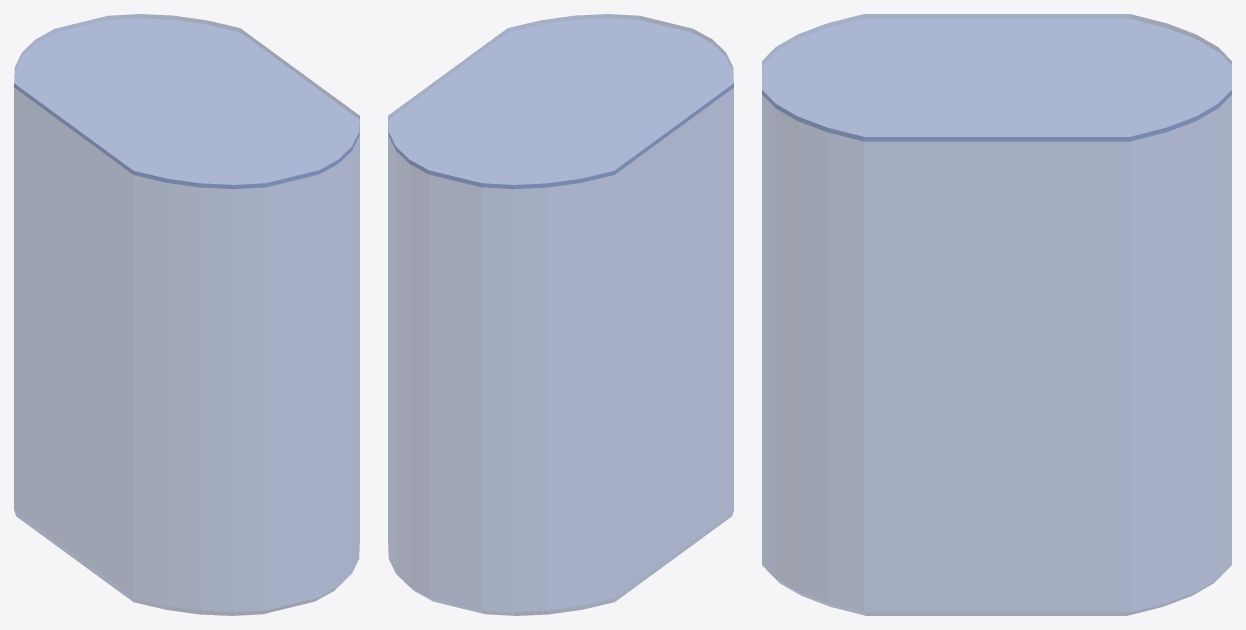
The model's file is liquid.gltf.
3 views of the same model, side by side, from view 1: azimuth 30°, elevation 25°; view 2: azimuth 150°, elevation 25°; view 3: azimuth 270°, elevation 25° (orthographic). The views are drawn at different scales.
Parts seen in each view (by area): view 1: nacl.001; view 2: nacl.001; view 3: nacl.001.
Boxes of the visible parts, x1,y1,x2,y2 form: nacl.001: [14, 14, 359, 615]; nacl.001: [388, 14, 733, 615]; nacl.001: [762, 14, 1231, 615].
Bounding box in the file's own units: 0.5612 × 1.03 × 0.9071.
